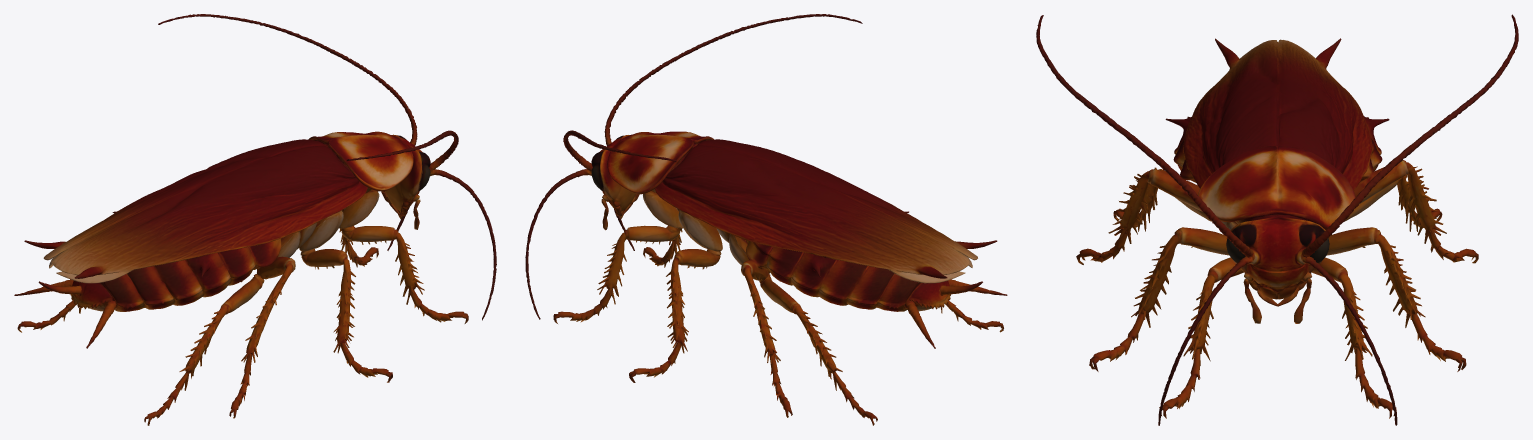
File: cockroach.glb
3 views of the same model, side by side, from view 1: azimuth 30°, elevation 25°; view 2: azimuth 150°, elevation 25°; view 3: azimuth 270°, elevation 25° (orthographic). The views are drawn at different scales.
Visible parts, largest first — view 1: tripo_node_a7c7f5eb-7bad-46c9-9438-0f838de84728; view 2: tripo_node_a7c7f5eb-7bad-46c9-9438-0f838de84728; view 3: tripo_node_a7c7f5eb-7bad-46c9-9438-0f838de84728.
Part boxes in pixels (x1,y1,x2,y2): tripo_node_a7c7f5eb-7bad-46c9-9438-0f838de84728: (14, 14, 496, 425); tripo_node_a7c7f5eb-7bad-46c9-9438-0f838de84728: (525, 14, 1007, 425); tripo_node_a7c7f5eb-7bad-46c9-9438-0f838de84728: (1036, 14, 1518, 425).
Bounding box in the file's own units: 0.9811 × 0.5699 × 0.7817.
Materials: 1 (1 with a texture image).
